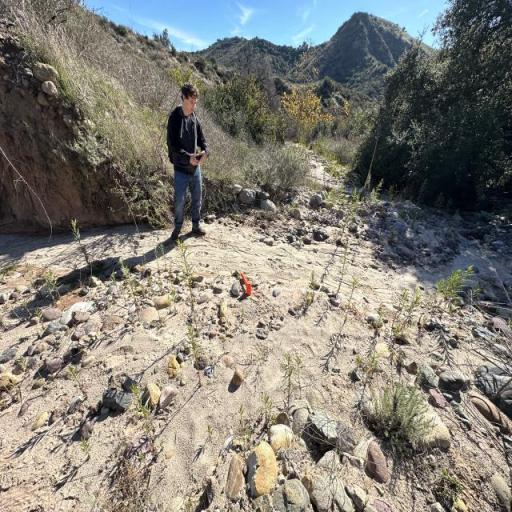mallet: (240, 272, 252, 296)
